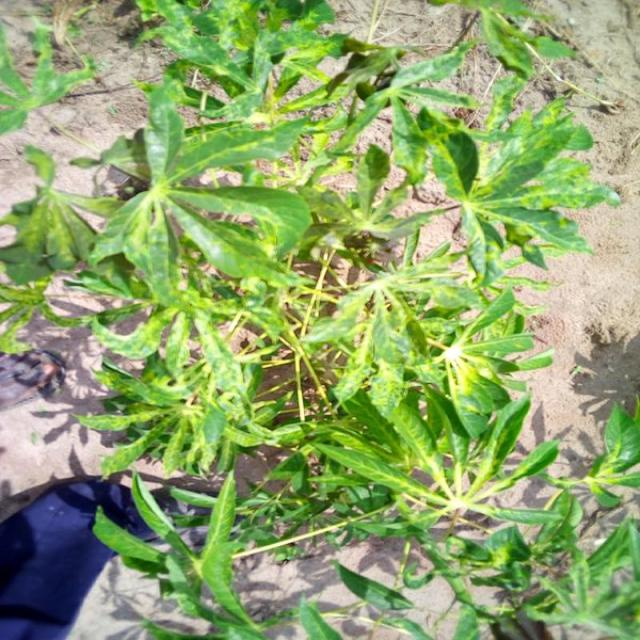cassava leaf: (0, 0, 634, 639)
